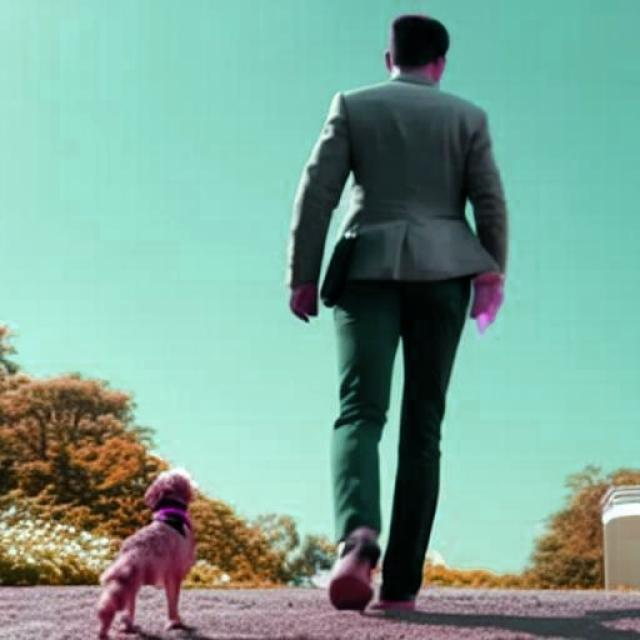Unleashed_Dog: (95, 227, 465, 640)
